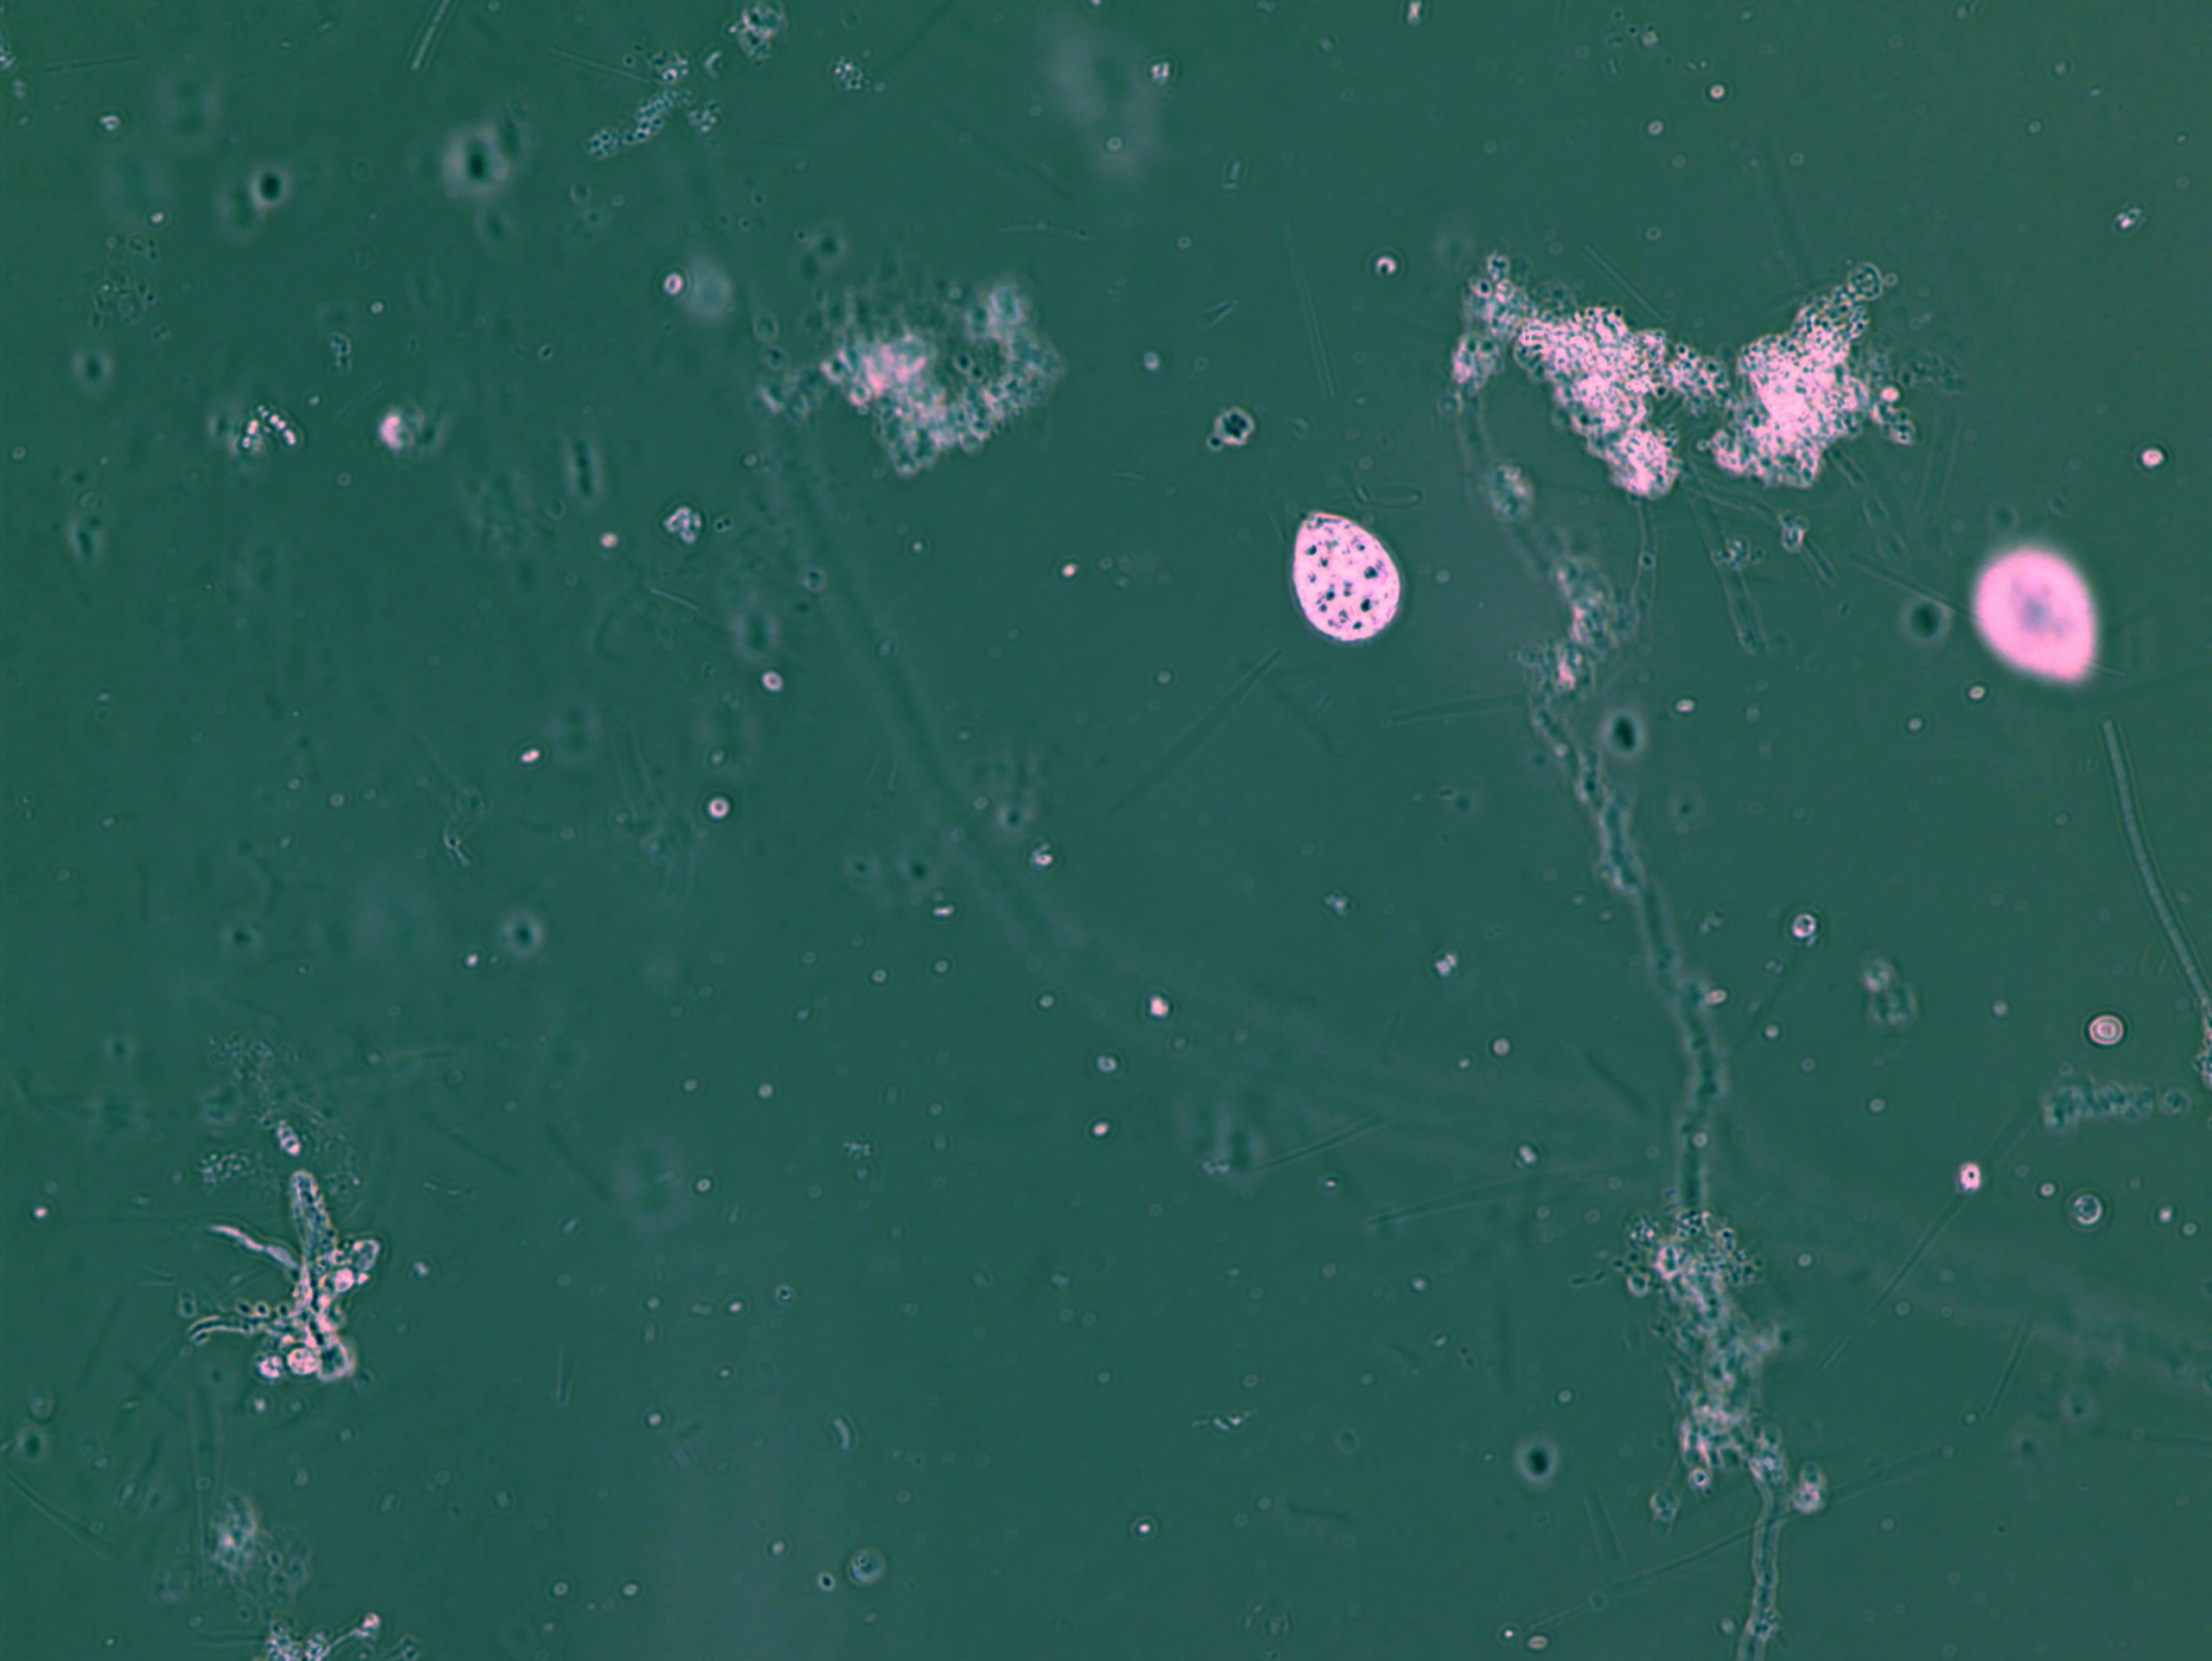depth:0: (1275, 476, 1430, 675)
